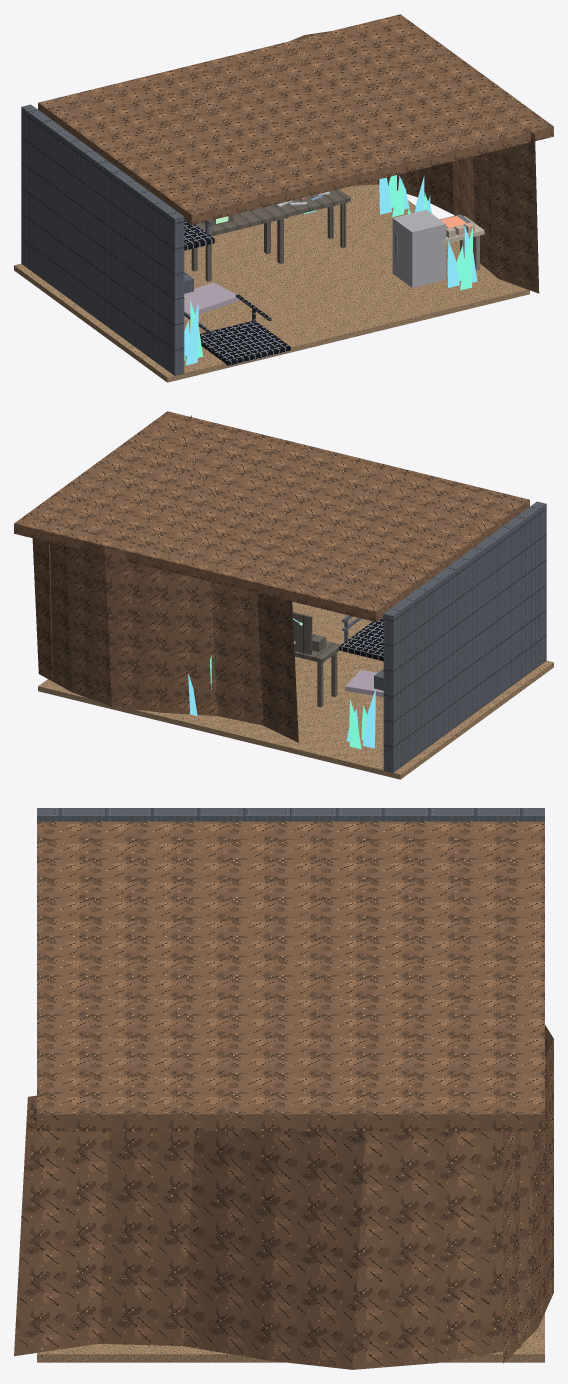
The model's file is endo-junction.glb.
3 renders of one model, top to bottom at view 1: azimuth 30°, elevation 25°; view 2: azimuth 150°, elevation 25°; view 3: azimuth 270°, elevation 25°, orthographic. The views are drawn at different scales.
Visible parts, largest first — view 1: Junction_Ceiling, Junction_Floor, Fac_Wall, Junction_RockRight, Junction_Fridge, Junction_Hatch, Junction_Bedroll, Junction_Workbench_top, Junction_Toolbench_top, Fac_Catwalk, Fr_5_3, Fr_2_3; view 2: Junction_Ceiling, Junction_RockBack, Fac_Wall, Junction_Floor, Fac_Catwalk, WB_board, Junction_Bedroll, Fr_6_2, Junction_Workbench_top; view 3: Junction_Ceiling, Junction_RockRight, Junction_RockBack, Fac_Wall, Junction_Floor.
Boxes of the visible parts, bbox=[...] form: Junction_Ceiling: bbox=[38, 14, 553, 224]; Junction_Floor: bbox=[14, 184, 529, 382]; Fac_Wall: bbox=[21, 104, 184, 375]; Junction_RockRight: bbox=[378, 132, 539, 293]; Junction_Fridge: bbox=[392, 210, 445, 287]; Junction_Hatch: bbox=[200, 321, 290, 366]; Junction_Bedroll: bbox=[184, 282, 239, 319]; Junction_Workbench_top: bbox=[195, 205, 288, 236]; Junction_Toolbench_top: bbox=[267, 189, 350, 216]; Fac_Catwalk: bbox=[184, 220, 214, 250]; Fr_5_3: bbox=[185, 302, 198, 365]; Fr_2_3: bbox=[460, 227, 472, 290]; Junction_Ceiling: bbox=[14, 411, 529, 621]; Junction_RockBack: bbox=[32, 538, 298, 742]; Fac_Wall: bbox=[383, 501, 546, 772]; Junction_Floor: bbox=[38, 601, 553, 779]; Fac_Catwalk: bbox=[339, 617, 383, 661]; WB_board: bbox=[293, 611, 312, 654]; Junction_Bedroll: bbox=[345, 670, 383, 696]; Fr_6_2: bbox=[362, 689, 375, 748]; Junction_Workbench_top: bbox=[294, 641, 340, 663]; Junction_Ceiling: bbox=[37, 821, 544, 1131]; Junction_RockRight: bbox=[14, 1095, 533, 1369]; Junction_RockBack: bbox=[503, 1025, 553, 1363]; Fac_Wall: bbox=[37, 808, 544, 821]; Junction_Floor: bbox=[37, 1313, 544, 1362].
Size of the model in its own units: 16 by 6.4 by 11.7.
23 materials, 5 textured.
